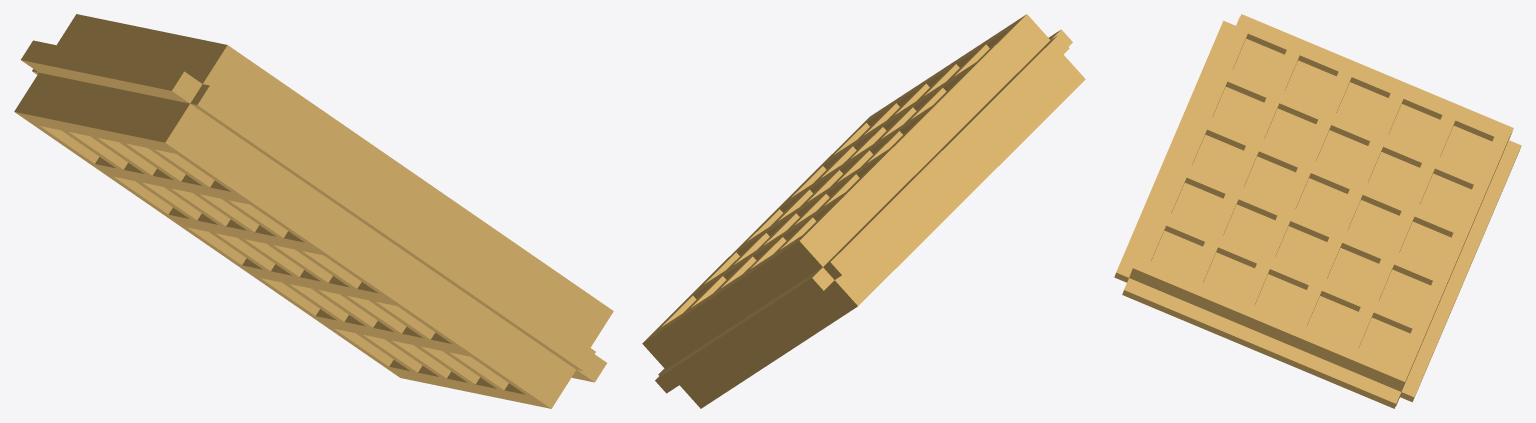
File: product_waffles.glb
3 renders of one model, left to right at view 1: azimuth 30°, elevation 25°; view 2: azimuth 150°, elevation 25°; view 3: azimuth 270°, elevation 25°, orthographic. The views are drawn at different scales.
Parts seen in each view (by area): view 1: ObjObject; view 2: ObjObject; view 3: ObjObject.
Part boxes in pixels (x1,y1,x2,y2): ObjObject: [14, 14, 613, 408]; ObjObject: [642, 14, 1085, 408]; ObjObject: [1114, 14, 1521, 408].
Bounding box in the file's own units: 1.71 × 1.85 × 2.26.
1 material, 1 textured.
